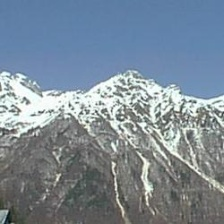neutral: (2, 10, 223, 224)
